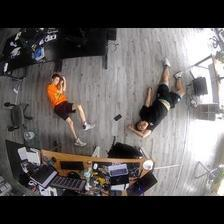fall: (131, 59, 184, 139), (47, 72, 96, 147)
